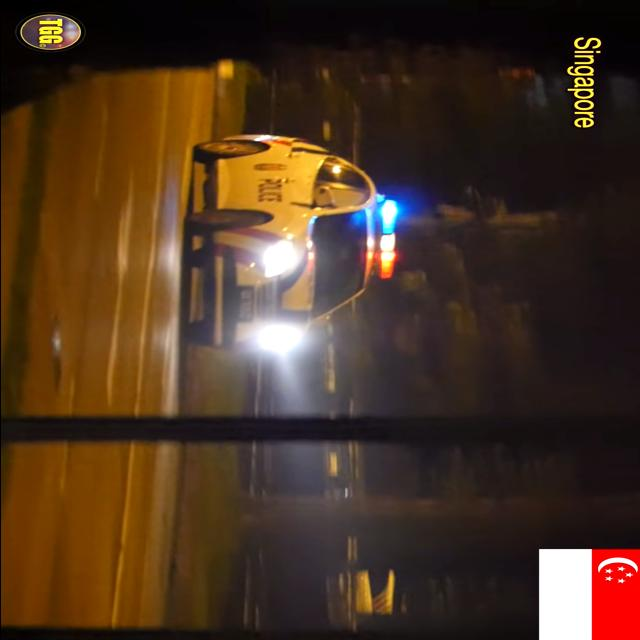emergency-vehicles: (172, 109, 406, 358)
